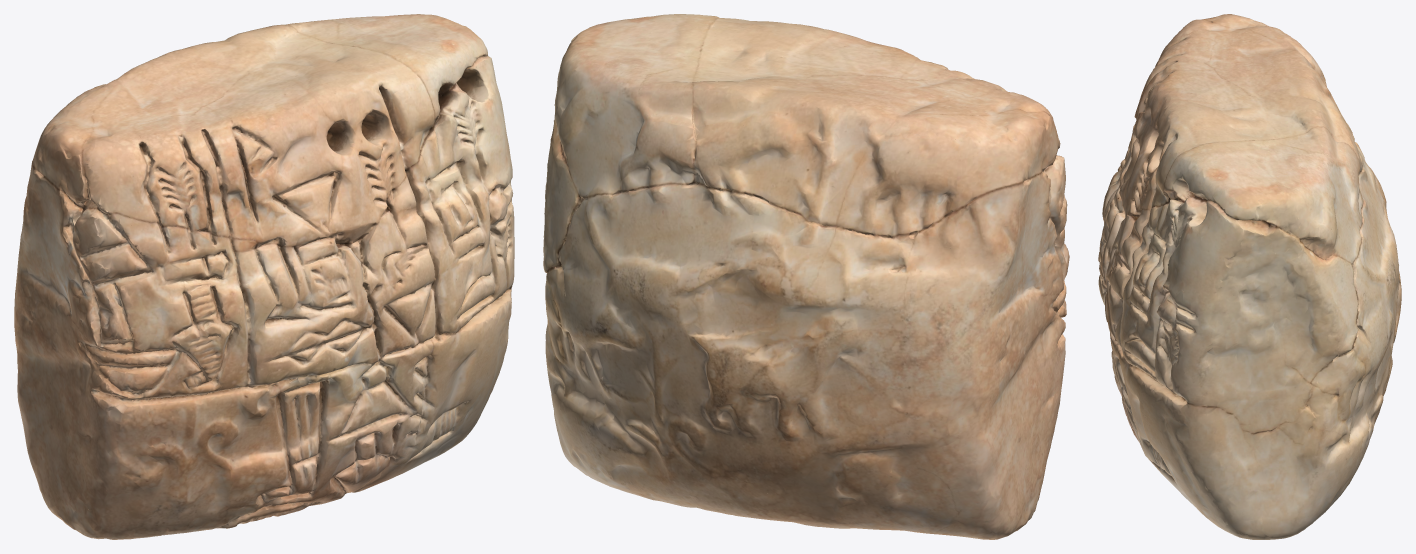
3 renders of one model, left to right at view 1: azimuth 30°, elevation 25°; view 2: azimuth 150°, elevation 25°; view 3: azimuth 270°, elevation 25°, orthographic. The views are drawn at different scales.
Visible parts, largest first — view 1: ADVIMG_42012_CuneiformTablet_n3d; view 2: ADVIMG_42012_CuneiformTablet_n3d; view 3: ADVIMG_42012_CuneiformTablet_n3d.
Boxes of the visible parts, x1,y1,x2,y2 form: ADVIMG_42012_CuneiformTablet_n3d: [14, 14, 514, 539]; ADVIMG_42012_CuneiformTablet_n3d: [543, 14, 1069, 539]; ADVIMG_42012_CuneiformTablet_n3d: [1098, 14, 1401, 539].
Bounding box in the file's own units: 0.0609 × 0.055 × 0.0415.
1 material, 1 textured.
